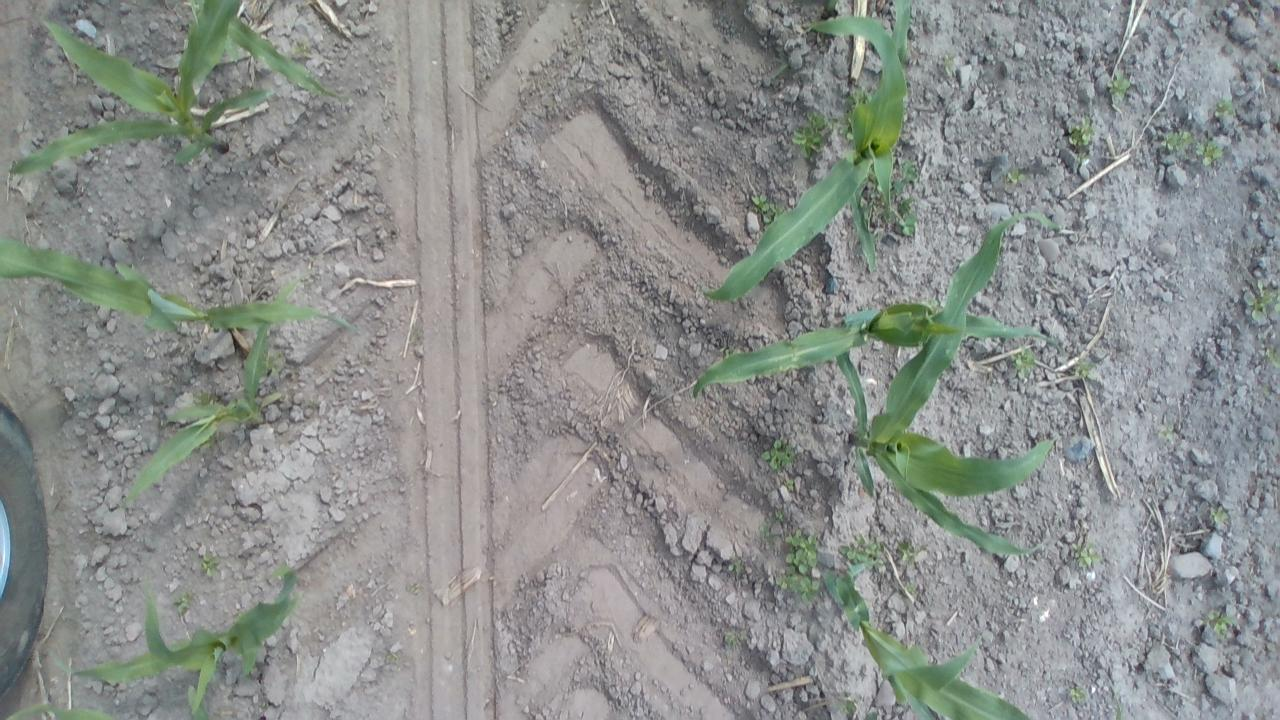Maize: (820, 208, 1070, 572), (700, 3, 936, 310), (6, 0, 306, 182), (110, 278, 306, 523), (0, 223, 365, 346), (686, 295, 1068, 404), (56, 556, 306, 720), (813, 552, 1052, 720), (232, 4, 338, 104)
Weeds: (776, 525, 824, 609), (788, 105, 839, 162), (1066, 115, 1104, 171), (881, 185, 920, 237), (834, 536, 882, 574), (1242, 279, 1280, 326), (1002, 341, 1040, 379), (761, 436, 798, 474), (1202, 608, 1238, 645), (1068, 534, 1103, 572), (894, 157, 928, 193), (748, 190, 786, 220), (1159, 128, 1197, 158), (287, 36, 320, 70), (1190, 138, 1224, 171), (1066, 351, 1096, 388), (929, 46, 962, 78), (1210, 94, 1242, 127), (1105, 67, 1134, 103), (892, 535, 926, 564), (1204, 497, 1232, 531), (1062, 678, 1092, 708), (306, 394, 336, 423), (844, 83, 874, 112), (192, 382, 223, 410), (1001, 163, 1030, 192), (266, 349, 291, 380), (196, 550, 222, 578), (754, 516, 782, 542), (265, 560, 297, 582), (170, 590, 197, 616), (717, 624, 744, 650), (1156, 420, 1184, 445), (1260, 342, 1280, 372), (724, 558, 750, 580), (896, 579, 919, 602), (833, 696, 859, 716), (769, 508, 793, 526), (256, 699, 280, 715), (780, 478, 799, 494)
